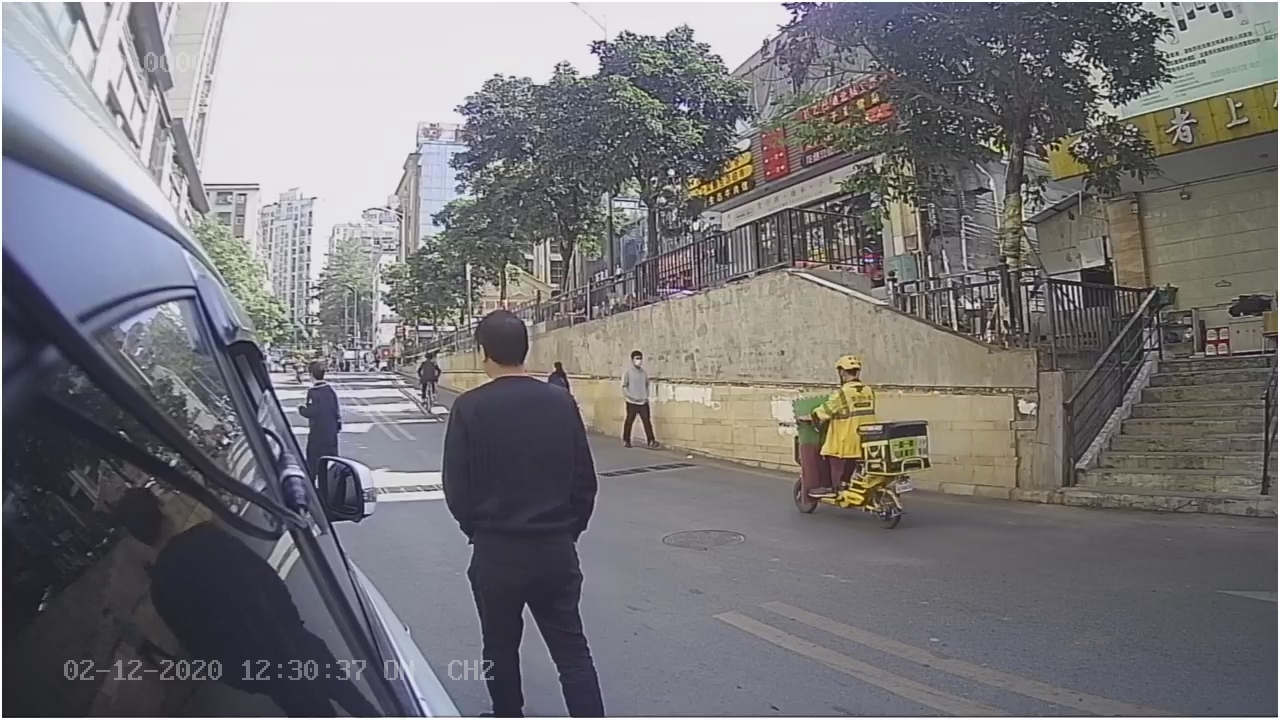person: (442, 304, 600, 486)
